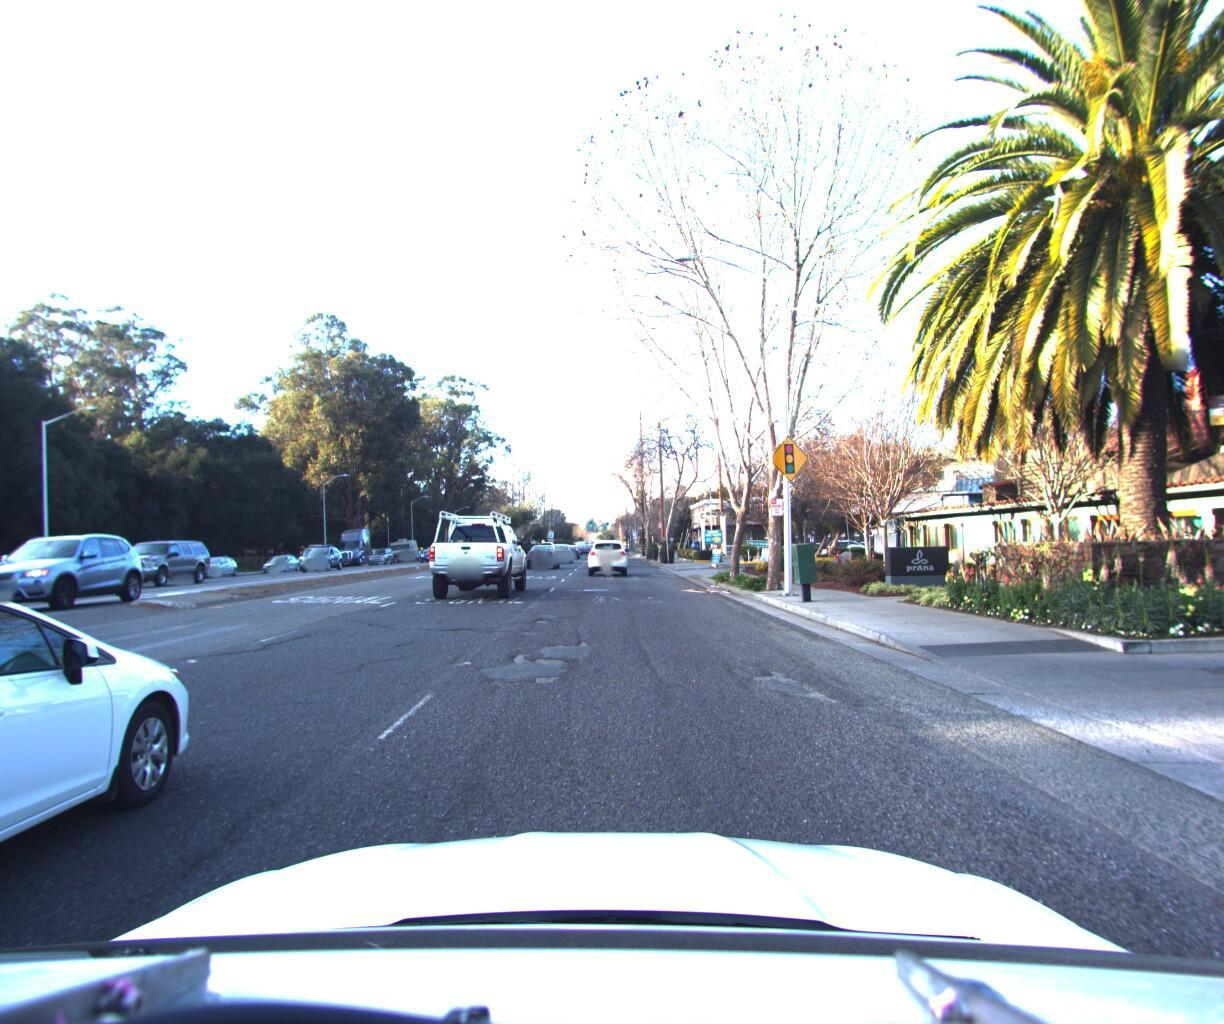car: (426, 508, 531, 602), (105, 538, 217, 589), (587, 532, 630, 573), (298, 541, 349, 573), (190, 549, 243, 579), (294, 538, 342, 567), (524, 537, 560, 566), (262, 547, 304, 570), (549, 533, 576, 556), (366, 543, 397, 562)
truck: (331, 521, 383, 565)
